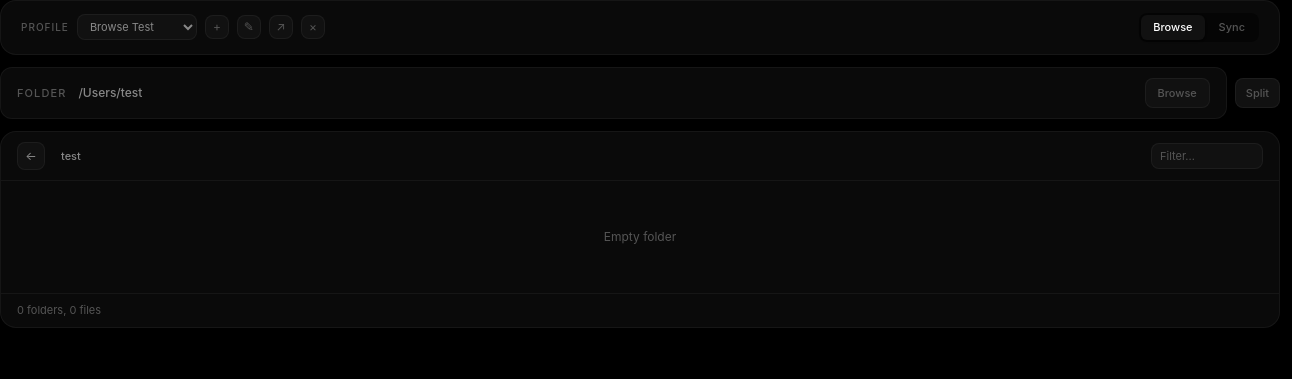
Scenario: FileManager › deletes the active profile and resets to empty state
The image size is (1292, 379).
Expected: the text "/Users/test" is shown, [78,85,142,100]
Click the button titled "Delete profile" at (313, 27), box [301,15,325,39]
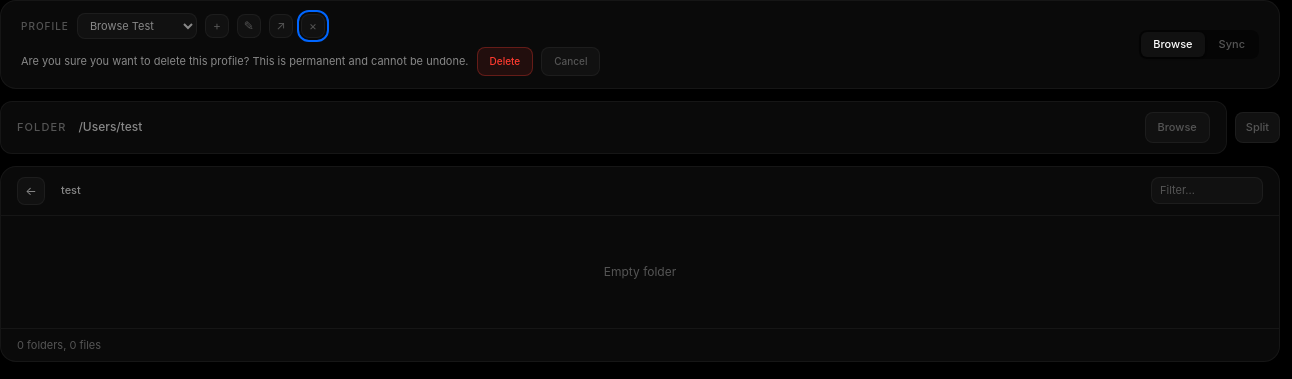
Now the button "Delete" is shown
// Confirm deletion
Click the button "Delete" at (505, 62), box [476,47,533,76]
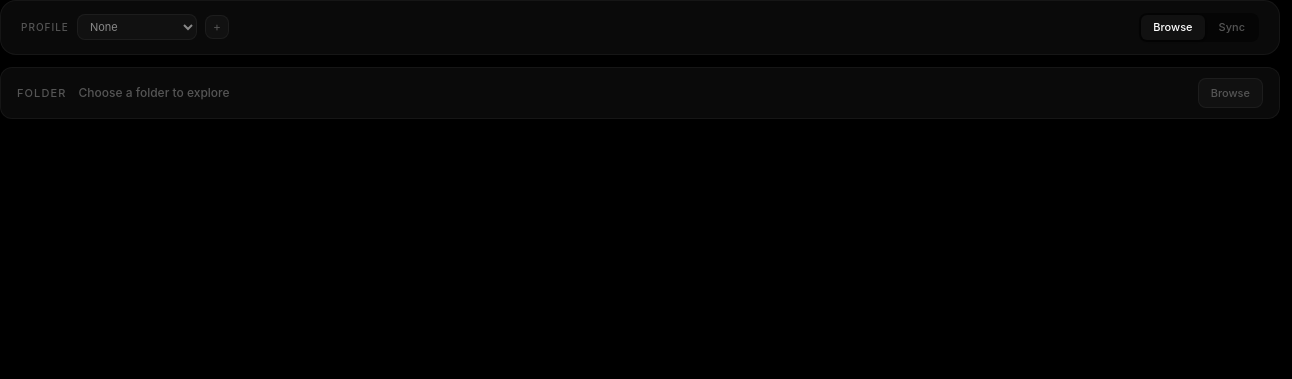
Now the text "Choose a folder to explore" is shown, box [78,85,230,100]
